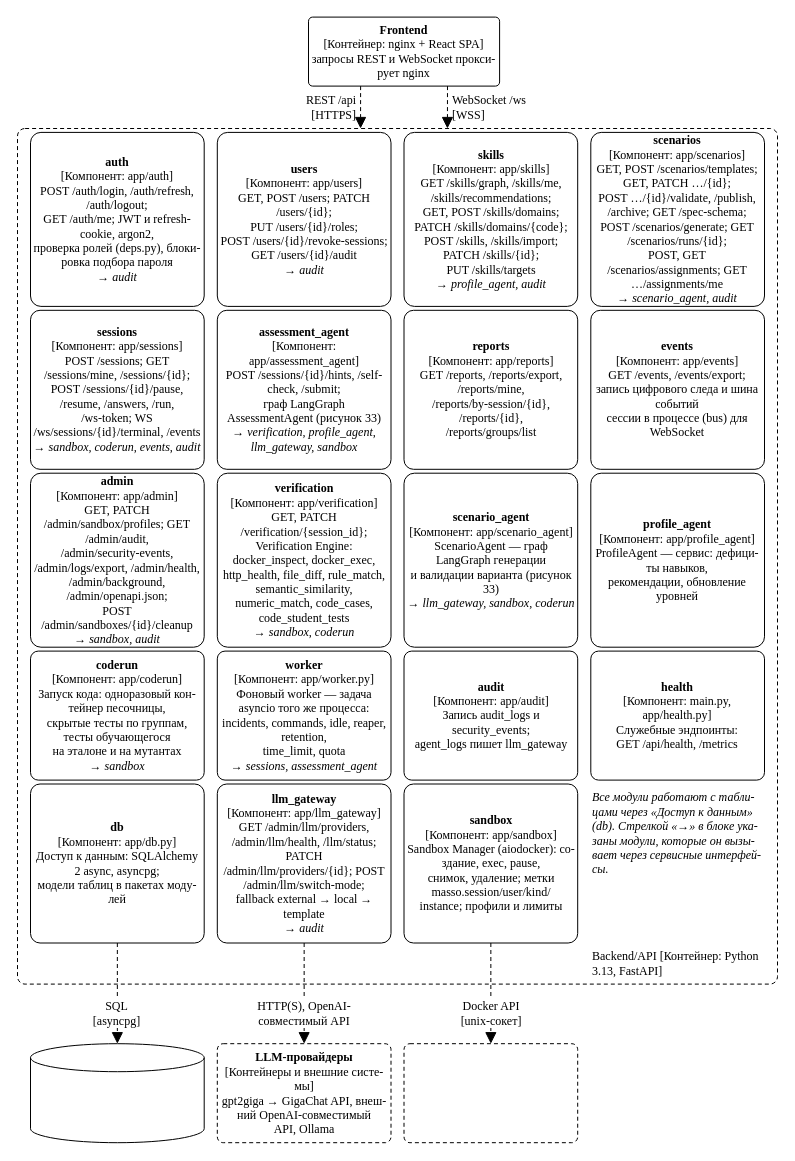
The diagram is 795 pixels wide and 1161 high, and some of its shapes have lost their labels. Here are the shapes that lost their labels. From the top down, the centre of each, then its label:
At point 117,1093: "PostgreSQL 18 + pgvector [Кон­тей­нер]".
At point 490,1093: "Docker Engine [Внеш­няя си­сте­ма] учеб­ные среды и кон­тей­не­ры за­пус­ка кода".
